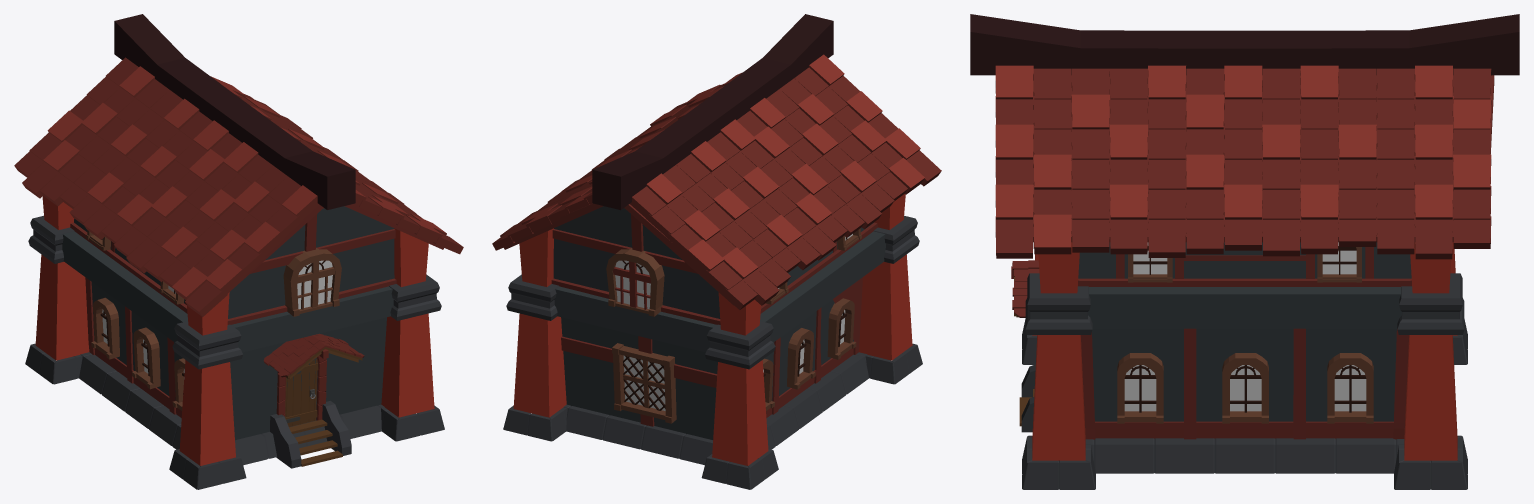
The model's file is SM_Hous_11_B.gltf.
3 renders of one model, left to right at view 1: azimuth 30°, elevation 25°; view 2: azimuth 150°, elevation 25°; view 3: azimuth 270°, elevation 25°, orthographic. The views are drawn at different scales.
Visible parts, largest first — view 1: SM_Hous_11_B; view 2: SM_Hous_11_B; view 3: SM_Hous_11_B.
Part boxes in pixels (bbox=[...]): SM_Hous_11_B: bbox=[14, 14, 463, 489]; SM_Hous_11_B: bbox=[492, 14, 941, 489]; SM_Hous_11_B: bbox=[970, 14, 1519, 489].
Bounding box in the file's own units: 8.43 × 9.17 × 11.69.
